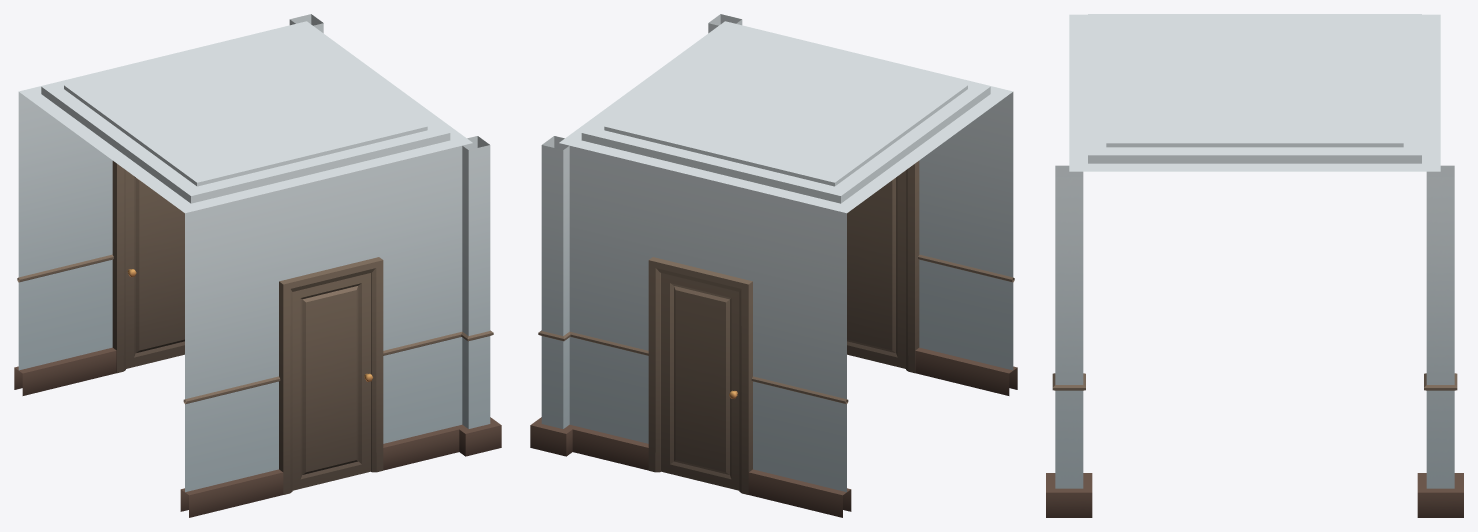
The model's file is Hallway_doors.fbx.
The picture shows the model from 3 angles, left to right: view 1: azimuth 30°, elevation 25°; view 2: azimuth 150°, elevation 25°; view 3: azimuth 270°, elevation 25°; orthographic projection. The views are drawn at different scales.
Visible parts, largest first — view 1: Hallway_door, Door001, Door; view 2: Hallway_door, Door, Door001; view 3: Hallway_door.
Boxes of the visible parts, x1,y1,x2,y2 form: Hallway_door: (14,14,501,517); Door001: (292,273,373,490); Door: (126,170,184,368); Hallway_door: (530,14,1017,517); Door: (661,273,739,490); Door001: (847,170,905,368); Hallway_door: (1046,14,1463,517).
Bounding box in the file's own units: 319 × 311 × 338.
